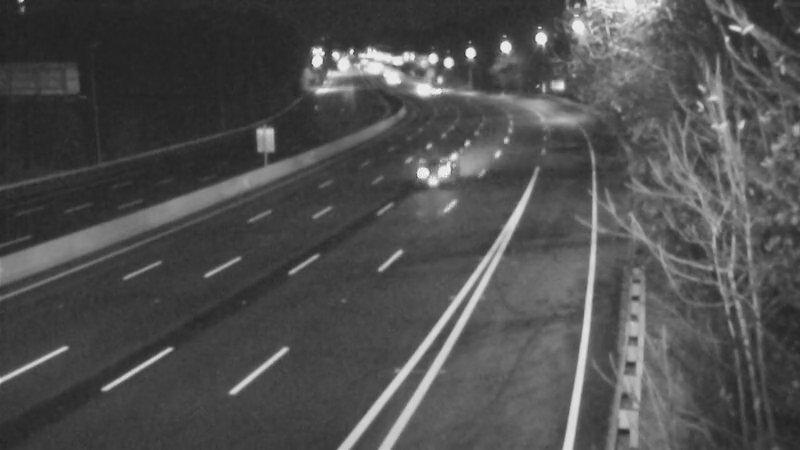vehicle: (390, 131, 470, 211), (392, 61, 442, 111), (402, 65, 452, 115)
